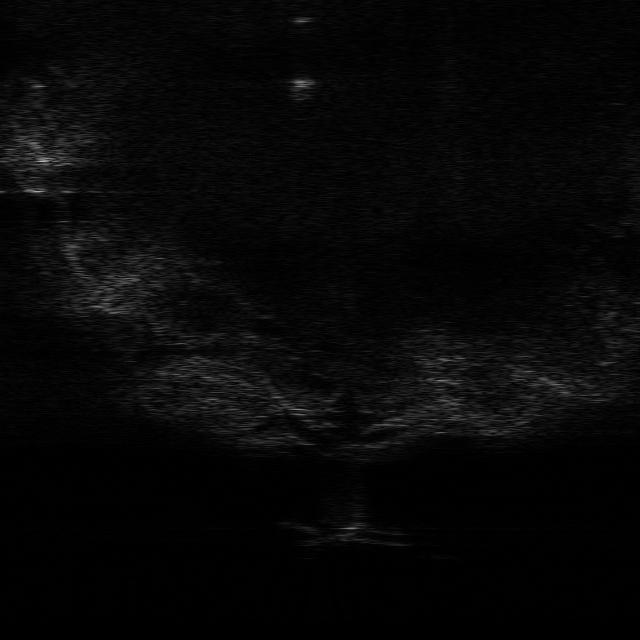plane: (279, 514, 410, 550)
